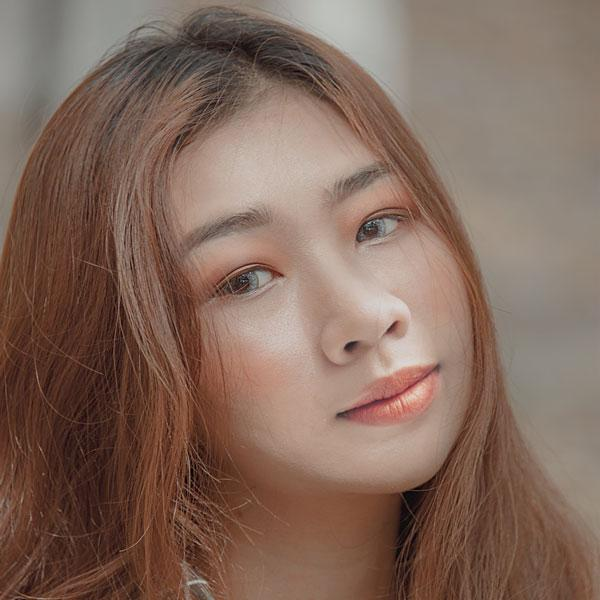Eyes: (200, 246, 289, 316), (346, 196, 418, 261)
